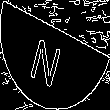N_N: (36, 24, 74, 86)
